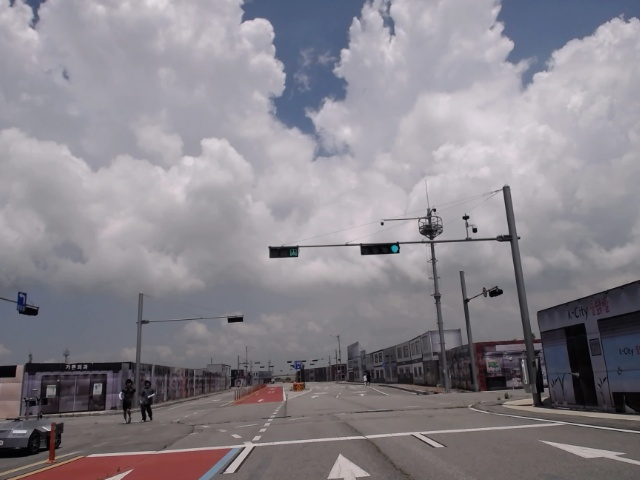straight_green_4: (362, 244, 400, 254)
